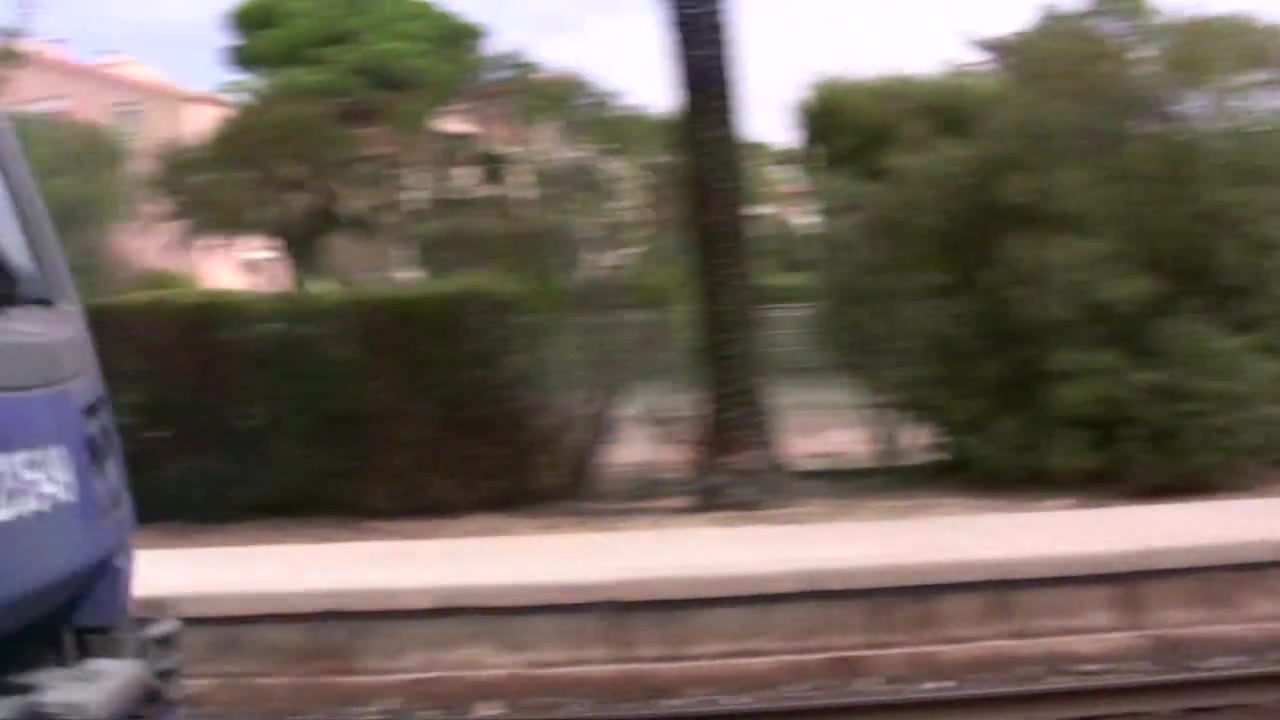train: (1, 97, 193, 718)
